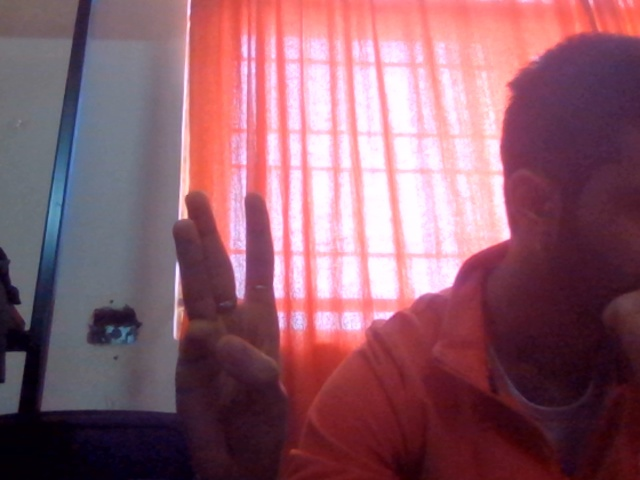W: (114, 176, 321, 480)
